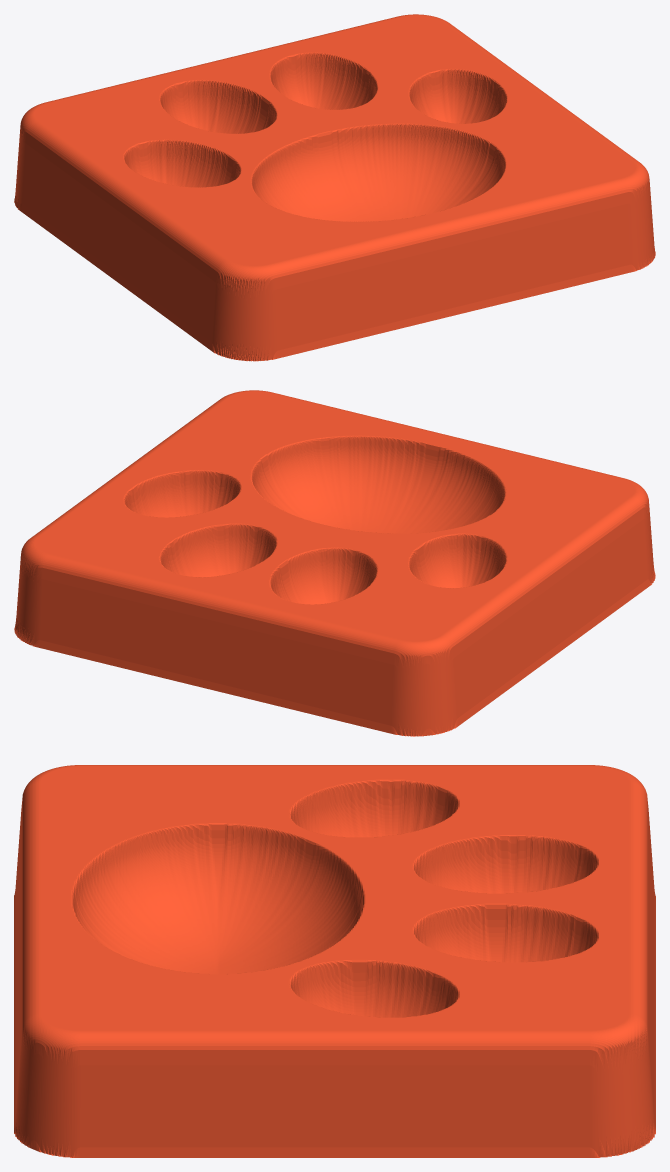
Rendered from mold.glb.
The picture shows the model from 3 angles, top to bottom: view 1: azimuth 30°, elevation 25°; view 2: azimuth 150°, elevation 25°; view 3: azimuth 270°, elevation 25°; orthographic projection. The views are drawn at different scales.
Parts seen in each view (by area): view 1: geometry_0; view 2: geometry_0; view 3: geometry_0.
Part boxes in pixels (bbox=[...]): geometry_0: bbox=[14, 14, 655, 361]; geometry_0: bbox=[14, 390, 655, 736]; geometry_0: bbox=[14, 765, 655, 1157].
Size of the model in its own units: 0.0924 by 0.0175 by 0.0876.
